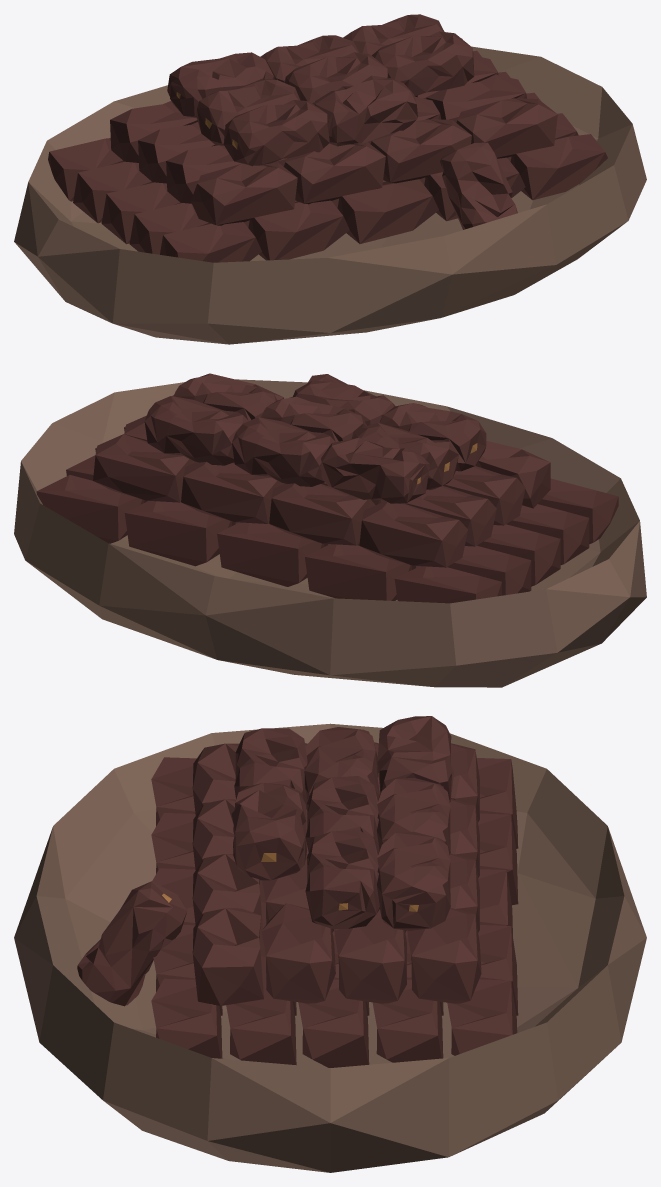
The model's file is dates plate.glb.
3 views of the same model, one above another, from view 1: azimuth 30°, elevation 25°; view 2: azimuth 150°, elevation 25°; view 3: azimuth 270°, elevation 25° (orthographic). The views are drawn at different scales.
Parts seen in each view (by area): view 1: Cube, Cube.004, Cube.002, Cube.001; view 2: Cube, Cube.001, Cube.004, Cube.002; view 3: Cube, Cube.004, Cube.002, Cube.001.
Boxes of the visible parts, x1=… form: Cube: x1=14, y1=46, x2=646, y2=344; Cube.004: x1=167, y1=14, x2=517, y2=229; Cube.002: x1=110, y1=38, x2=557, y2=225; Cube.001: x1=48, y1=50, x2=607, y2=262; Cube: x1=14, y1=379, x2=646, y2=687; Cube.001: x1=36, y1=426, x2=618, y2=603; Cube.004: x1=144, y1=374, x2=486, y2=503; Cube.002: x1=93, y1=373, x2=550, y2=567; Cube: x1=14, y1=723, x2=646, y2=1172; Cube.004: x1=77, y1=716, x2=453, y2=1006; Cube.002: x1=192, y1=742, x2=481, y2=1005; Cube.001: x1=151, y1=757, x2=518, y2=1067.
Bounding box in the file's own units: 0.3131 × 0.1061 × 0.2259.
